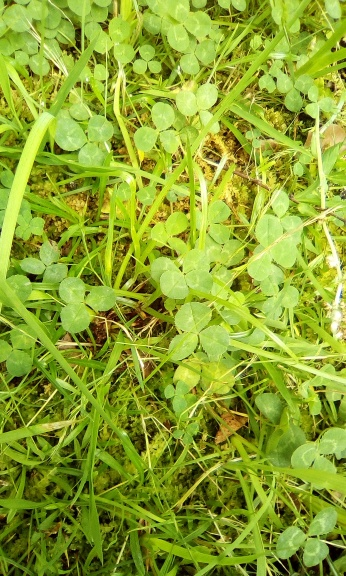4leaf: (151, 248, 214, 300)
